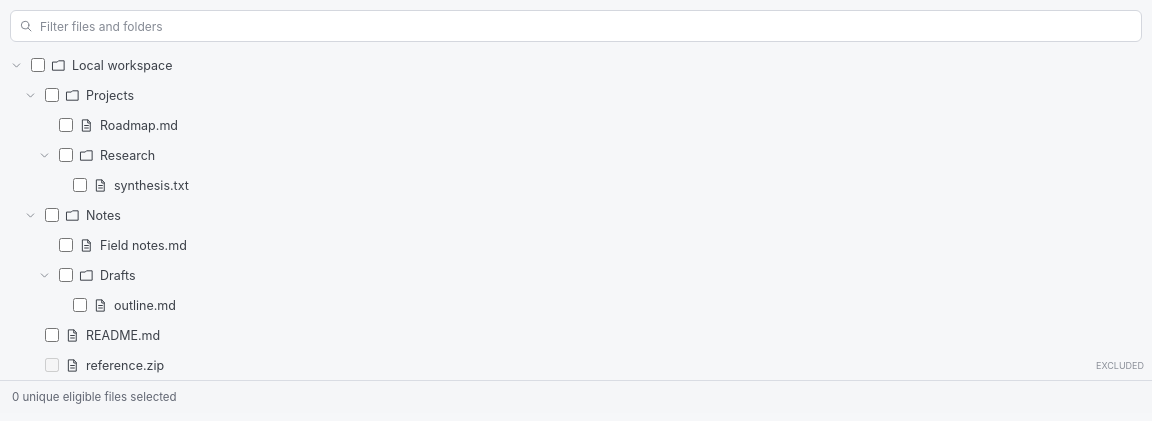
Test: SourceTree › filters matching sources while retaining their ancestor context
The image size is (1152, 421).
Type "synthesis" into the search field named "Search sources" at (576, 26), box 10,10 -> 1142,42
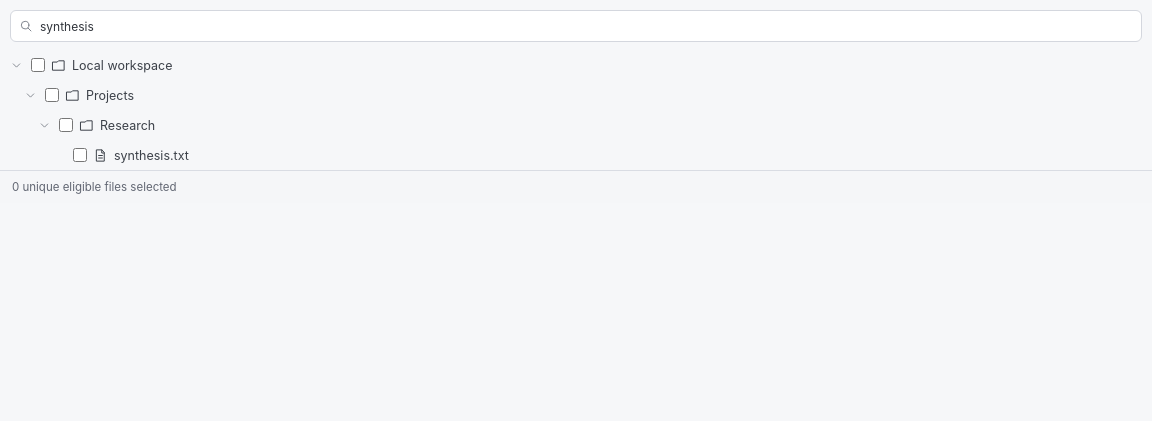
Expected: the text "Local workspace" is shown, 72,58 -> 172,72
Result: the text "Roadmap.md" is gone
Result: the text "Notes" is gone
